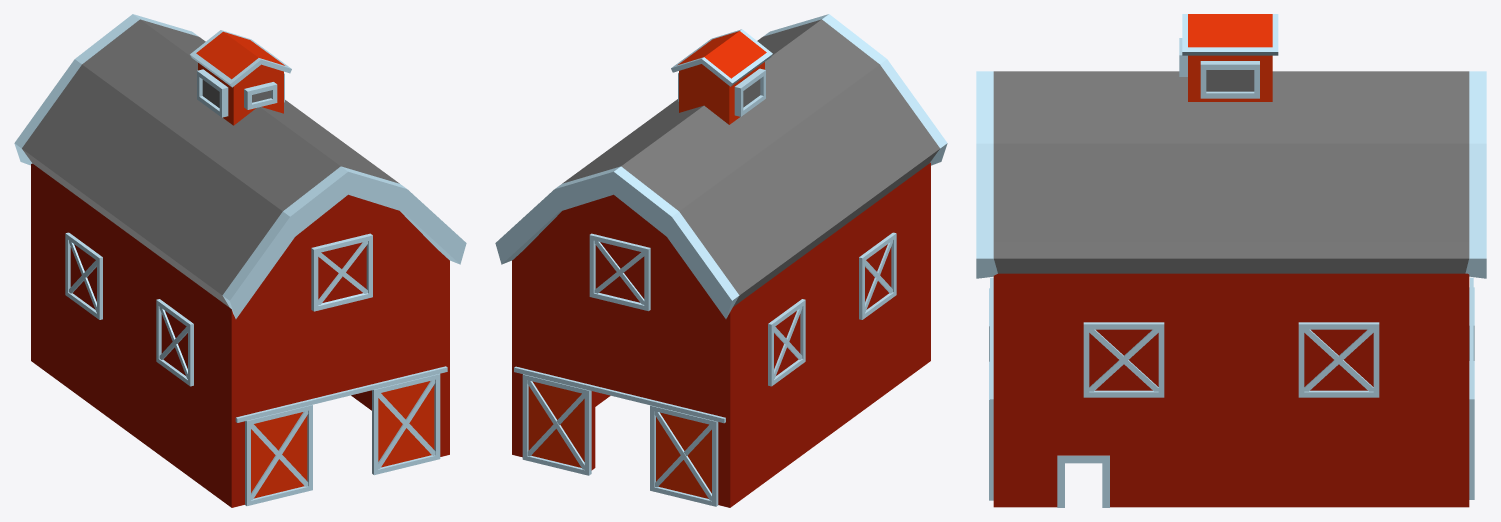
The model's file is Barn.fbx.
3 views of the same model, side by side, from view 1: azimuth 30°, elevation 25°; view 2: azimuth 150°, elevation 25°; view 3: azimuth 270°, elevation 25° (orthographic). The views are drawn at different scales.
Visible parts, largest first — view 1: Barn_LOD0; view 2: Barn_LOD0; view 3: Barn_LOD0.
Part boxes in pixels (left/top/right/bottom): Barn_LOD0: left=14, top=14, right=466, bottom=507; Barn_LOD0: left=495, top=14, right=947, bottom=507; Barn_LOD0: left=976, top=14, right=1486, bottom=507.
Size of what is drawn, in the model's own units: 1116 by 1638 by 1759.
